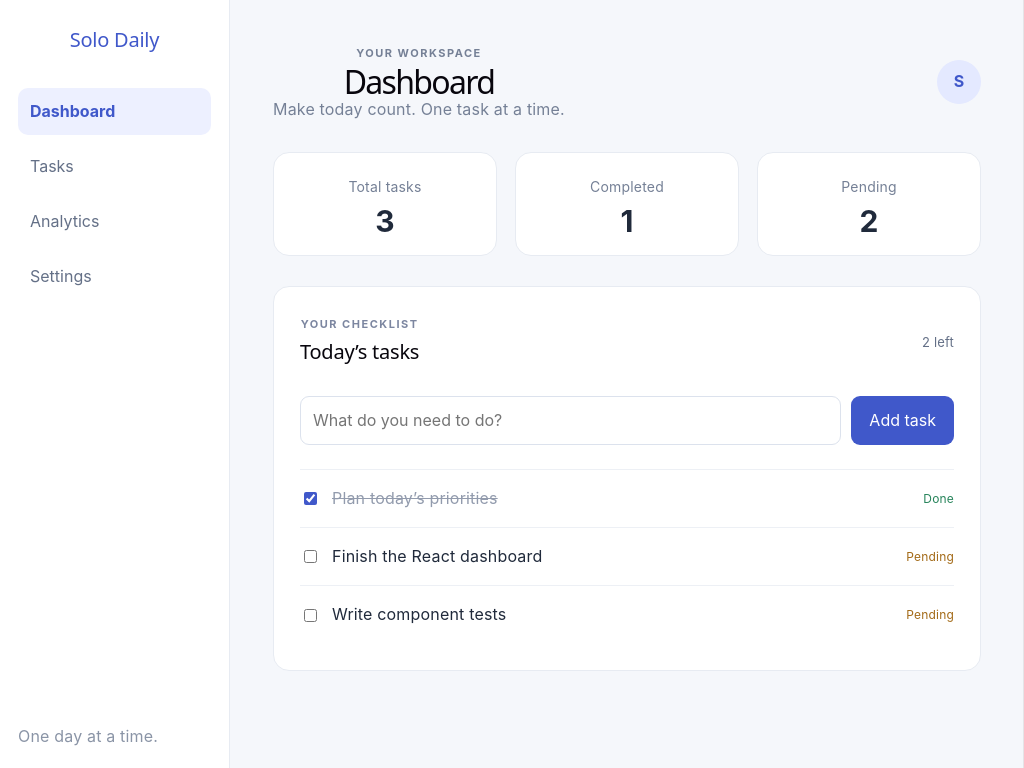
Test: Solo Daily dashboard › navigates to the Analytics view
Click the button "Analytics": {"x": 114, "y": 222} top-left (18, 198), bottom-right (211, 245)
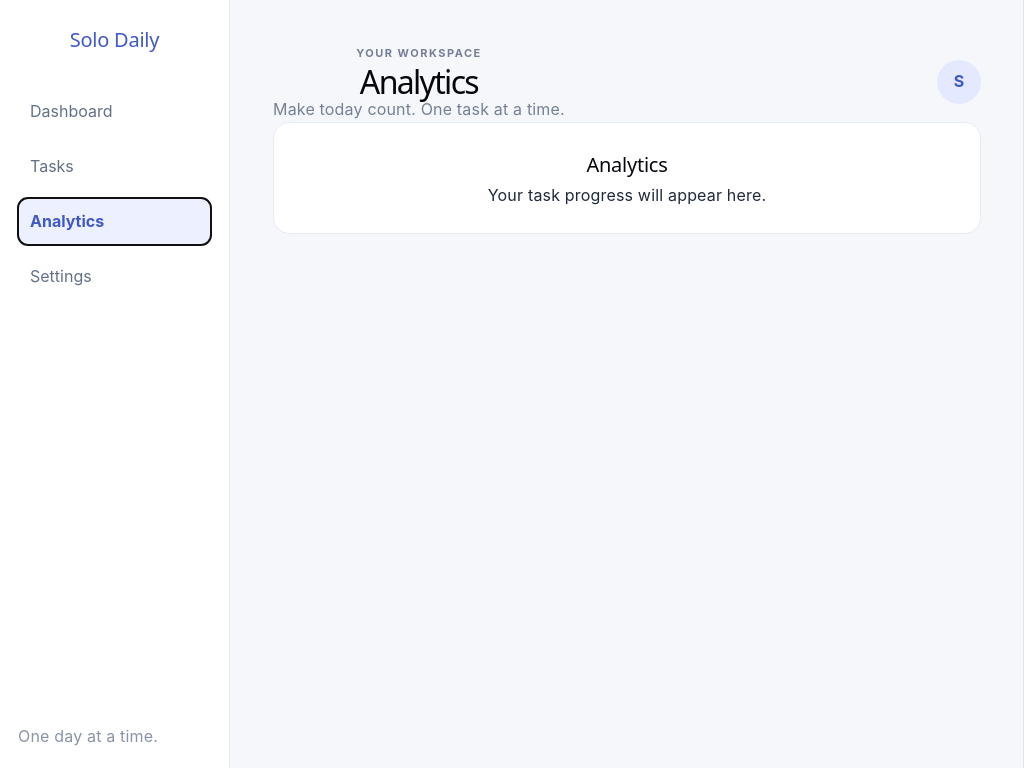
Expected: the heading "Analytics" below "YOUR WORKSPACE" is shown, top-left (360, 60), bottom-right (478, 103)
Expected: the text "Your task progress will appear here." is shown, top-left (488, 185), bottom-right (766, 205)
